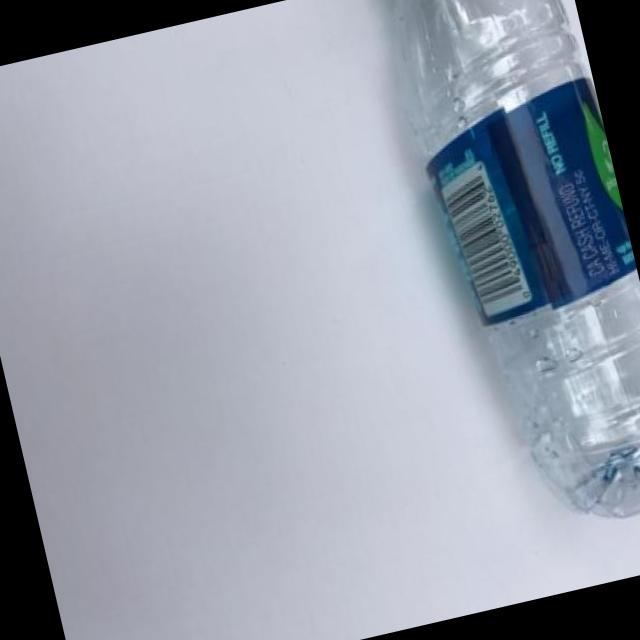BotolPlastik: (374, 0, 640, 549)
